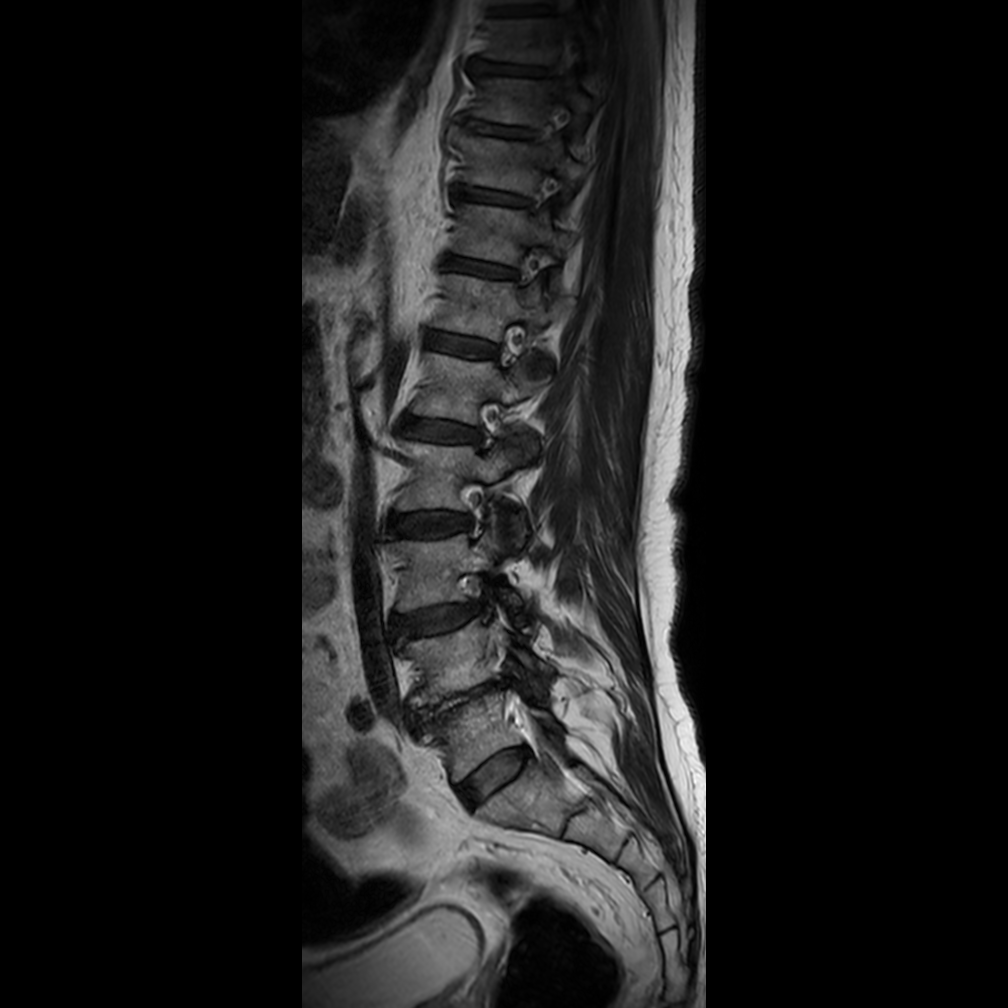RFS0: (450, 470, 513, 549)
RFS1: (467, 386, 526, 464)
